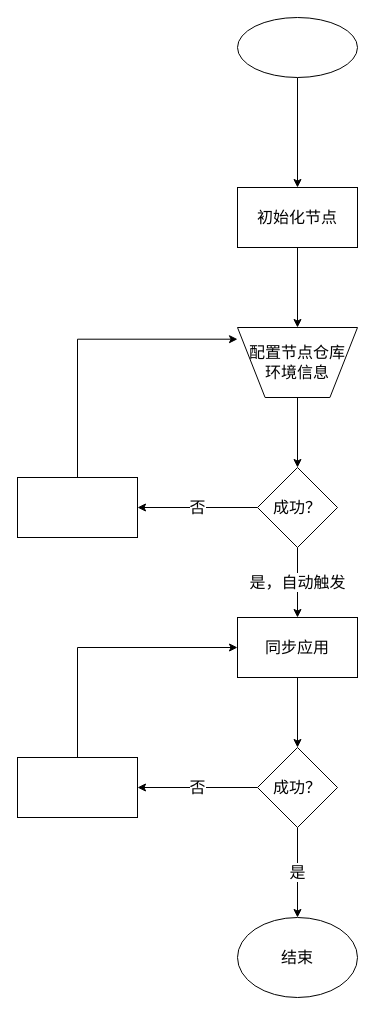
The diagram is 375 pixels wide and 1015 high, and some of its shapes have lost their labels. The centre of each missing label's shape, as x and y in pixels:
"开始" belongs at [297,47].
"手动触发" belongs at [77,787].
"重试" belongs at [77,507].
